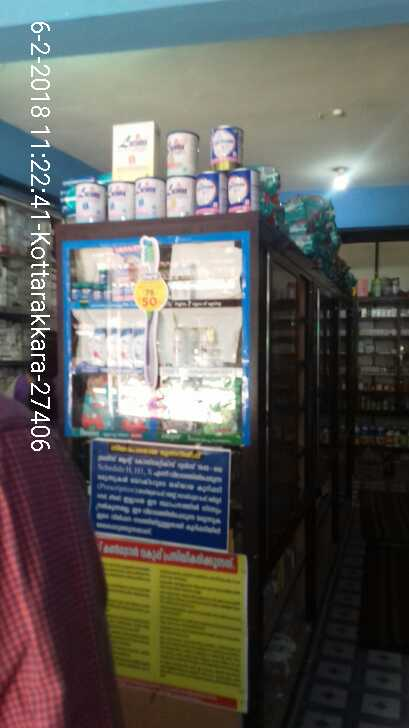vicks: (71, 266, 136, 301)
